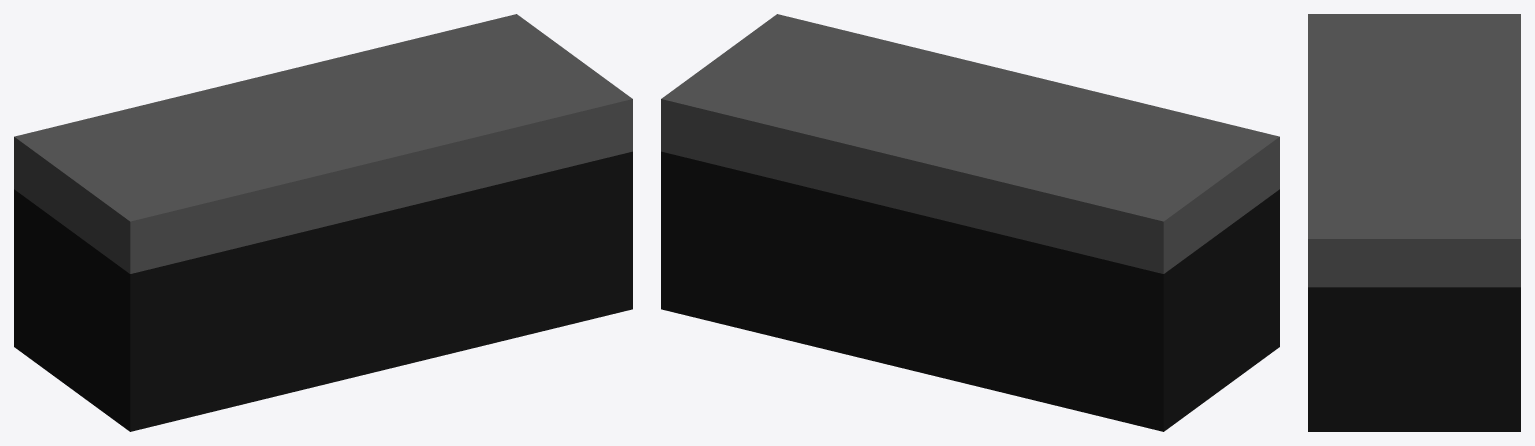
File: BODY_BOTTOM.obj
3 renders of one model, left to right at view 1: azimuth 30°, elevation 25°; view 2: azimuth 150°, elevation 25°; view 3: azimuth 270°, elevation 25°, orthographic. The views are drawn at different scales.
Size of the model in its own units: 1 by 0.4 by 0.4.
1 material, 1 textured.
